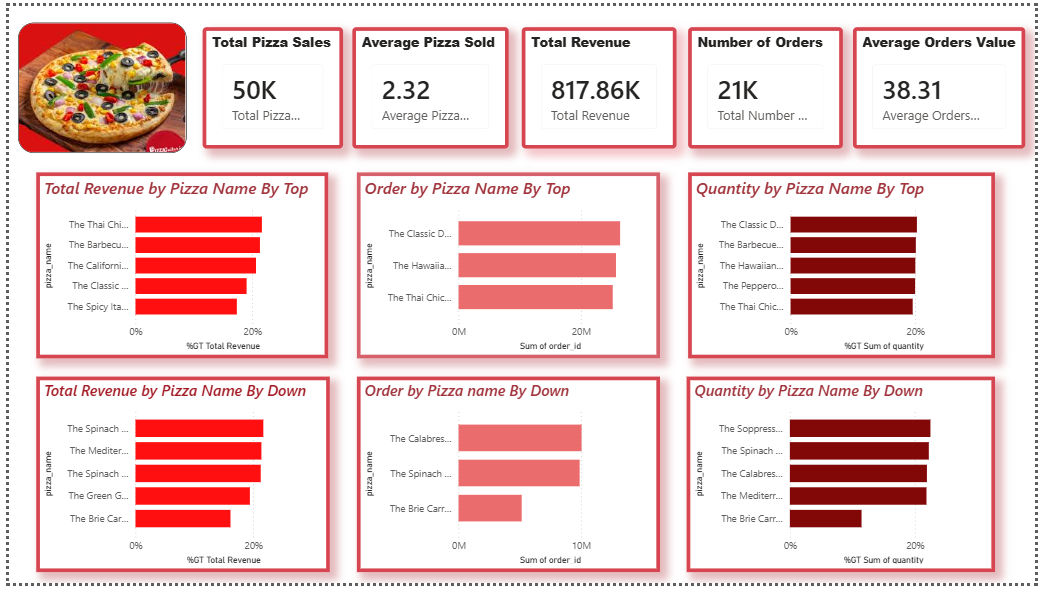

The page's visual inventory and layout, read from the dashboard file:
{"tool":"powerbi","page":{"name":"My Visual","canvas":[1280,720],"ordinal":1},"visuals":[{"type":"cardVisual","title":"Total Pizza Sales","fields":{"Data":["pizza_sales.Total Pizza Sale"]},"box":[241.7,26.7,175,151.7],"z":0},{"type":"cardVisual","title":"Total Revenue","fields":{"Data":["pizza_sales.Total Revenue"]},"box":[640,26.7,193.3,151.7],"z":1000},{"type":"cardVisual","title":"Number of Orders ","fields":{"Data":["pizza_sales.Total Number of Orders"]},"box":[846.7,26.7,193.3,151.7],"z":2000},{"type":"cardVisual","title":"Average Orders  Value ","fields":{"Data":["pizza_sales.Average Orders Value"]},"box":[1053.3,26.7,215,151.7],"z":3000},{"type":"cardVisual","title":"Average Pizza Sold ","fields":{"Data":["pizza_sales.Average Pizza Sold Per Orders"]},"box":[428.3,26.7,195,151.7],"z":4000},{"type":"barChart","title":"Total Revenue by Pizza Name By Top","fields":{"Category":["pizza_sales.pizza_name"],"Y":["Divide(pizza_sales.Total Revenue, ScopedEval(pizza_sales.Total Revenue, []))"]},"box":[33.9,206.8,364.4,232.2],"z":5000},{"type":"barChart","title":"Order by Pizza Name By Top","fields":{"Category":["pizza_sales.pizza_name"],"Y":["Sum(pizza_sales.order_id)"]},"box":[433.9,206.8,378,232.2],"z":6000},{"type":"barChart","title":"Quantity by Pizza Name By Top","fields":{"Category":["pizza_sales.pizza_name"],"Y":["Sum(pizza_sales.quantity)"]},"box":[847.5,206.8,383.1,232.2],"z":7000},{"type":"barChart","title":"Total Revenue by Pizza Name By Down ","fields":{"Category":["pizza_sales.pizza_name"],"Y":["pizza_sales.Total Revenue"]},"box":[33.9,462.7,366.1,244.1],"z":8000},{"type":"barChart","title":"Order by Pizza name By Down","fields":{"Category":["pizza_sales.pizza_name"],"Y":["Sum(pizza_sales.order_id)"]},"box":[433.9,462.7,378,244.1],"z":9000},{"type":"barChart","title":"Quantity by Pizza Name By Down","fields":{"Category":["pizza_sales.pizza_name"],"Y":["Sum(pizza_sales.quantity)"]},"box":[845.8,462.7,384.7,244.1],"z":10000},{"type":"image","box":[11.9,20.3,210.2,162.7],"z":11000}]}

Visuals, with their boxes in screenshot pixels (x1, y1, x2, y2), scaled from the page's 1280x720 canvas onto the 1045x595 screenshot:
"Total Pizza Sales" cardVisual: (197,22,340,147)
"Total Revenue" cardVisual: (522,22,680,147)
"Number of Orders " cardVisual: (691,22,849,147)
"Average Orders  Value " cardVisual: (860,22,1035,147)
"Average Pizza Sold " cardVisual: (350,22,509,147)
"Total Revenue by Pizza Name By Top" barChart: (28,171,325,363)
"Order by Pizza Name By Top" barChart: (354,171,663,363)
"Quantity by Pizza Name By Top" barChart: (692,171,1005,363)
"Total Revenue by Pizza Name By Down " barChart: (28,382,327,584)
"Order by Pizza name By Down" barChart: (354,382,663,584)
"Quantity by Pizza Name By Down" barChart: (691,382,1005,584)
image: (10,17,181,151)
